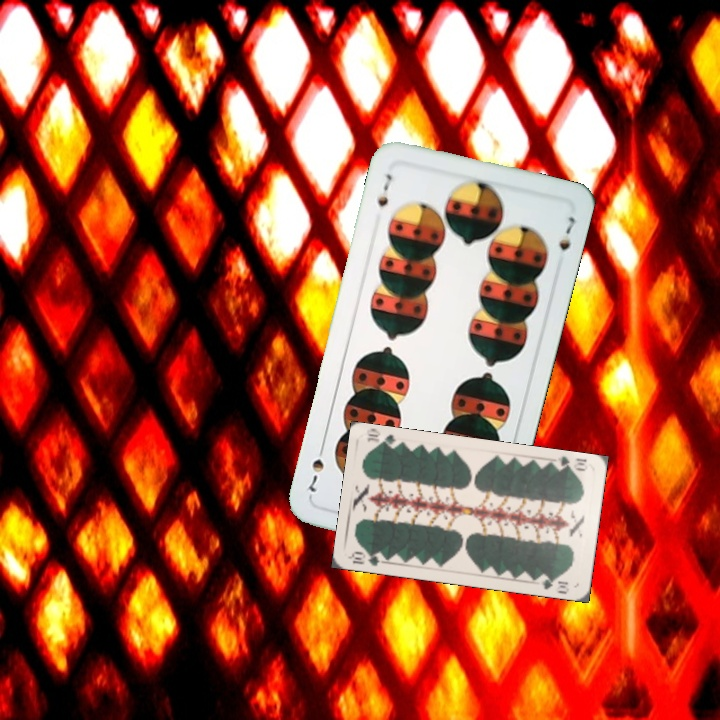G10: (347, 547, 388, 569), (550, 453, 589, 474)
S7: (373, 169, 395, 209)
